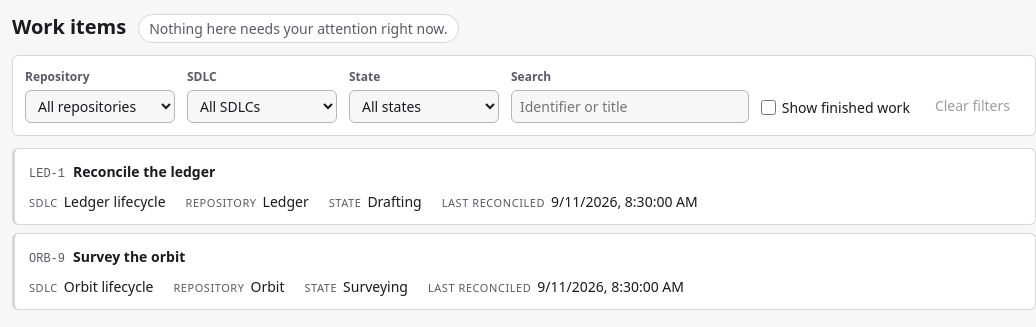
Test: the item list › filters and searches, and keeps that state in the URL
Expected: the text "LED-1" is shown, top-left (29, 165), bottom-right (65, 183)
Select "Orbit" in the dropdown labelled "Repository": coordinates (100, 106) top-left (25, 90), bottom-right (175, 123)
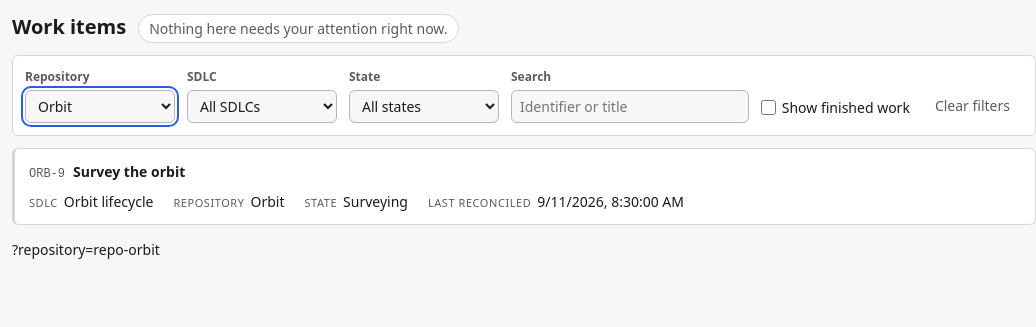
Expected: the text "ORB-9" is shown, top-left (29, 165), bottom-right (65, 183)
Expected: the number of list items is 1, top-left (12, 148), bottom-right (1035, 225)
Expected: the text with test id "query-string" shows "repository=repo-orbit", top-left (12, 240), bottom-right (160, 259)
Click the button "Clear filters": coordinates (972, 106) top-left (922, 88), bottom-right (1023, 123)
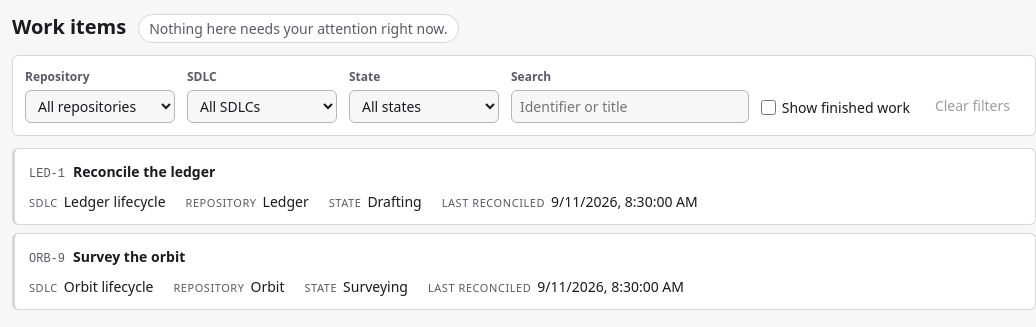
Expected: the number of list items is 2, top-left (12, 148), bottom-right (1035, 225); top-left (12, 233), bottom-right (1035, 310)
In the search field labelled "Search": coordinates (630, 106) top-left (511, 90), bottom-right (749, 123), type "survey"
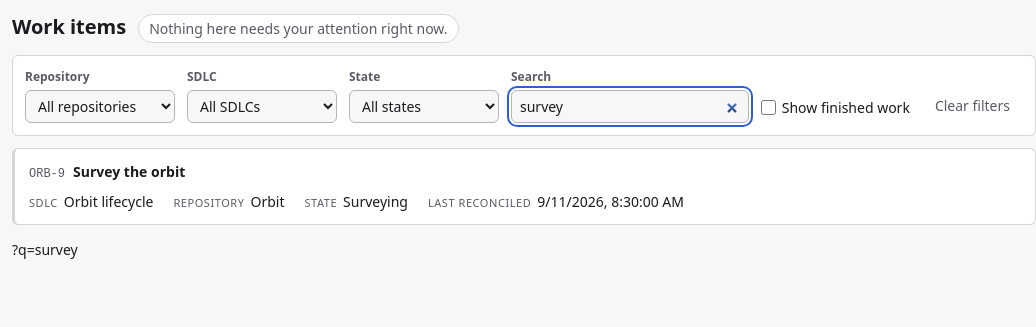
Expected: the text "ORB-9" is shown, top-left (29, 165), bottom-right (65, 183)
Expected: the number of list items is 1, top-left (12, 148), bottom-right (1035, 225)
Expected: the text with test id "query-string" shows "q=survey", top-left (12, 240), bottom-right (78, 259)
